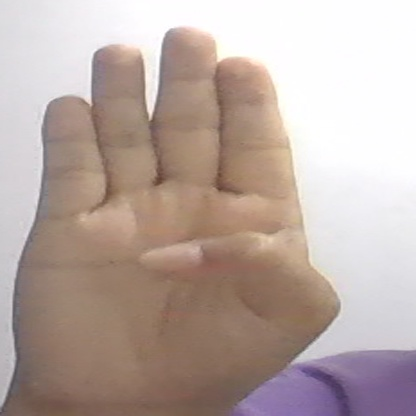B: (9, 27, 342, 401)
